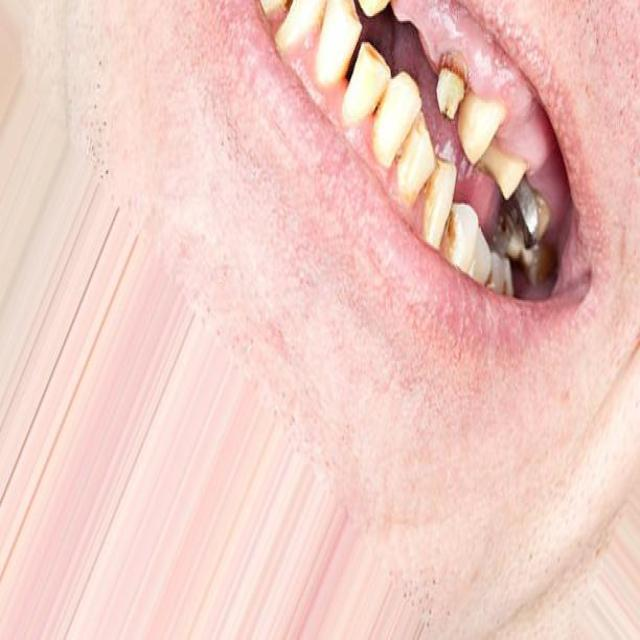caries: (498, 172, 555, 255), (431, 42, 471, 126)
